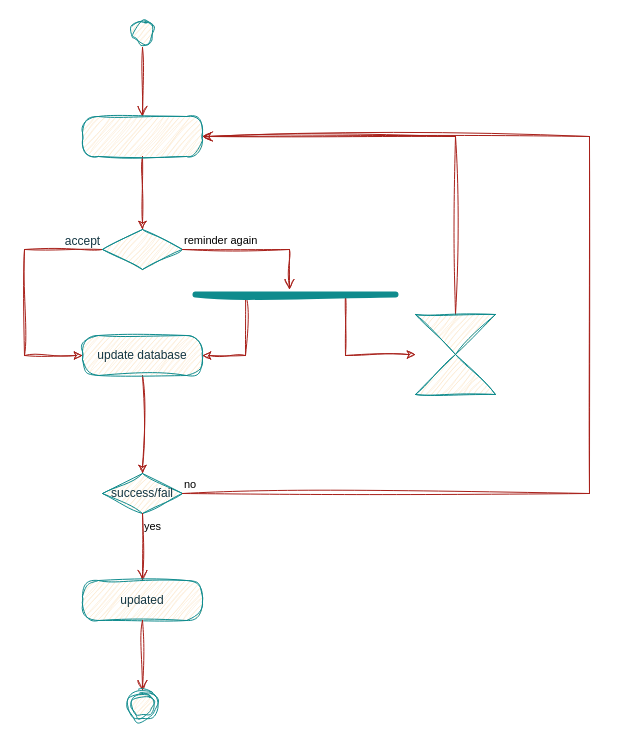
This 617x738 diagram has some shape labels left out. Each missing label, with the centre of its shape:
"notification reminder" goes at (142,136).
"validation" goes at (142,249).
